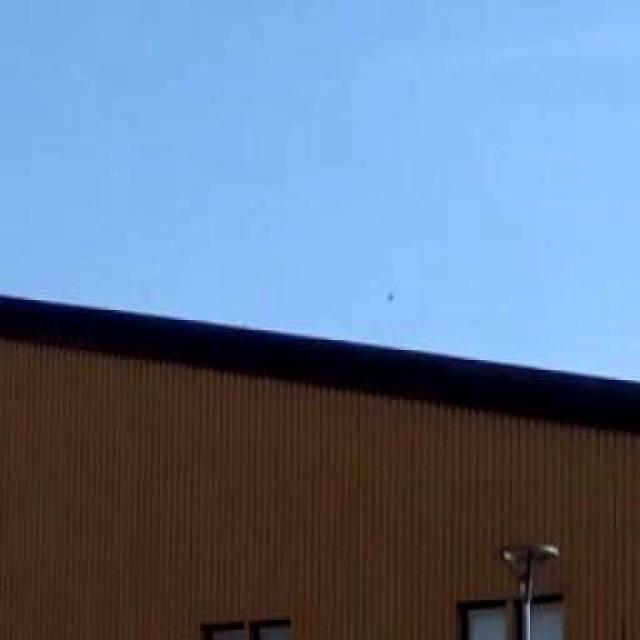drone: (365, 266, 419, 328)
